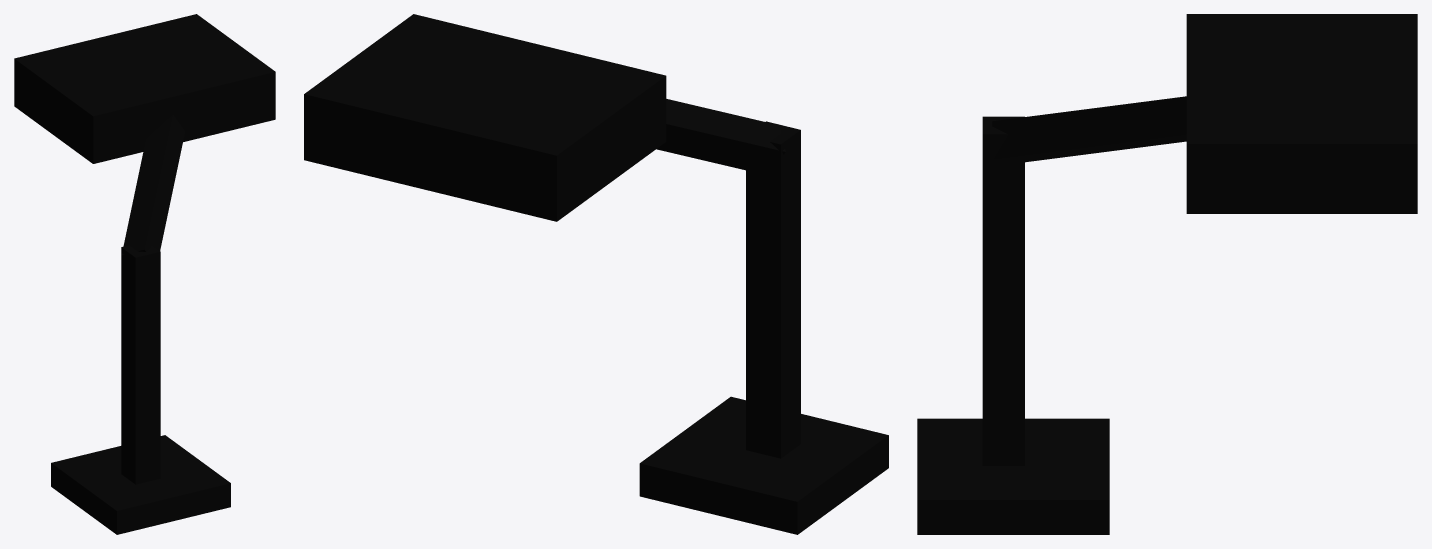
Rendered from lab_task_lamp.obj.
The picture shows the model from 3 angles, left to right: view 1: azimuth 30°, elevation 25°; view 2: azimuth 150°, elevation 25°; view 3: azimuth 270°, elevation 25°; orthographic projection. The views are drawn at different scales.
Size of the model in its own units: 0.6875 by 0.875 by 0.8125.
